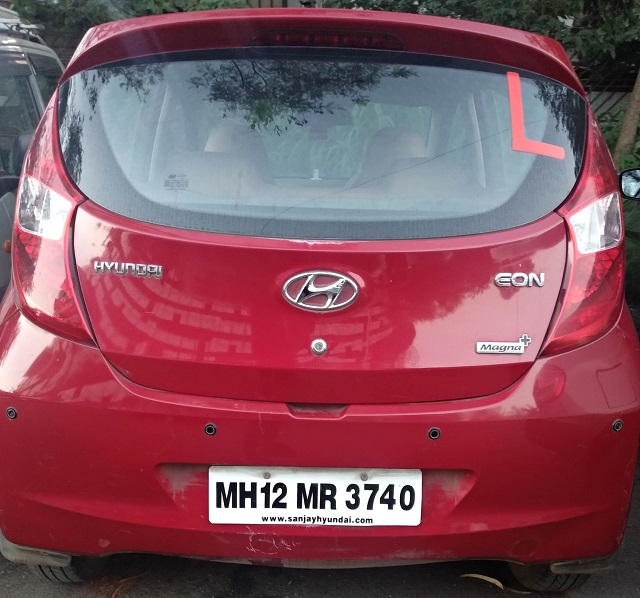licenseplate: (208, 459, 427, 529)
